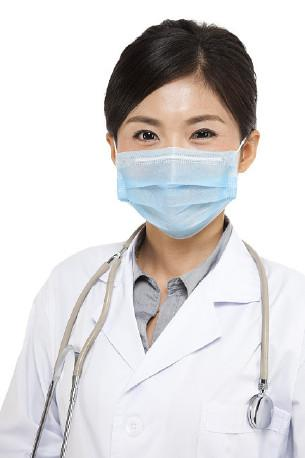OK: (113, 109, 244, 240)
